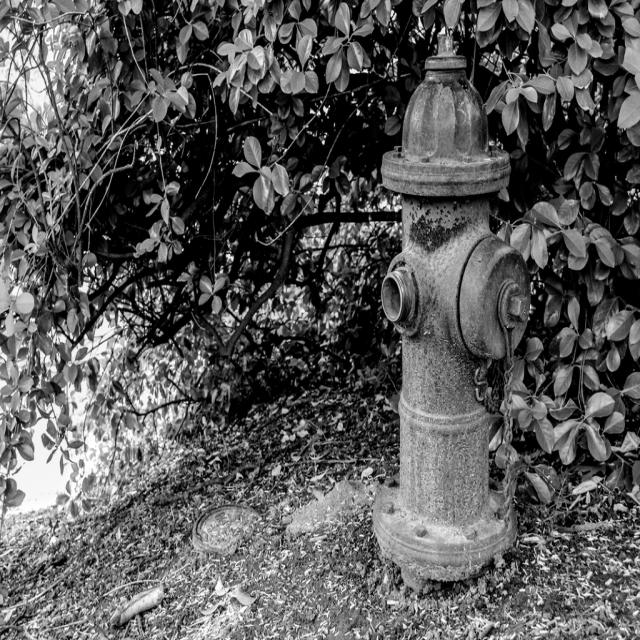fire_hydrant: (372, 33, 531, 581)
